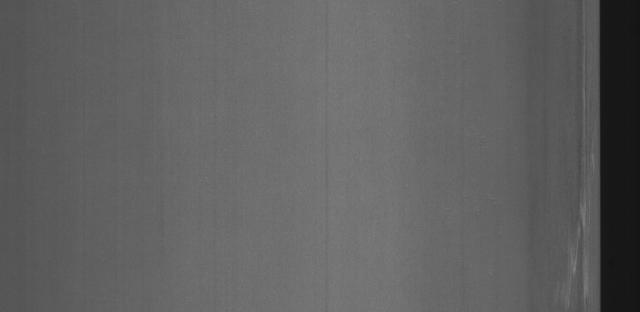silk_spot: (565, 13, 596, 306)
